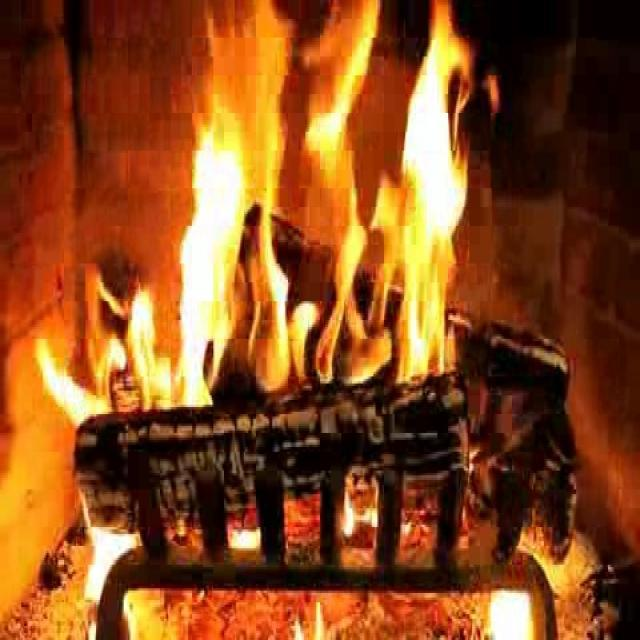Fire: (158, 1, 484, 417)
